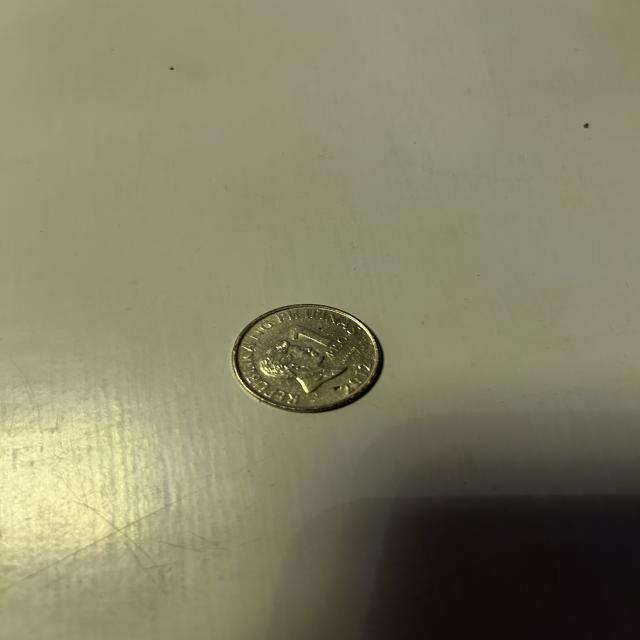1_Old_Front: (285, 326, 344, 361)
